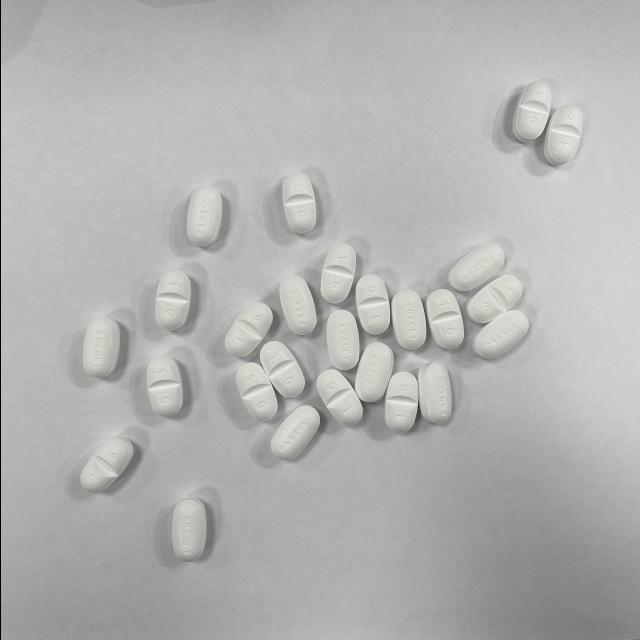Piller: (76, 437, 135, 491), (268, 402, 319, 460), (474, 310, 530, 361), (234, 356, 277, 421), (469, 273, 521, 326), (222, 301, 274, 353), (450, 240, 506, 287), (168, 498, 207, 561), (416, 360, 454, 424), (261, 340, 304, 396), (316, 371, 362, 423), (547, 103, 585, 165), (185, 179, 221, 244), (515, 78, 553, 138), (391, 289, 427, 351), (146, 356, 182, 417), (83, 320, 122, 376), (154, 268, 190, 328), (357, 340, 390, 404), (427, 288, 461, 350), (284, 171, 314, 240), (282, 274, 314, 337), (322, 241, 355, 302), (356, 272, 388, 330), (387, 373, 416, 429), (329, 311, 356, 369)
